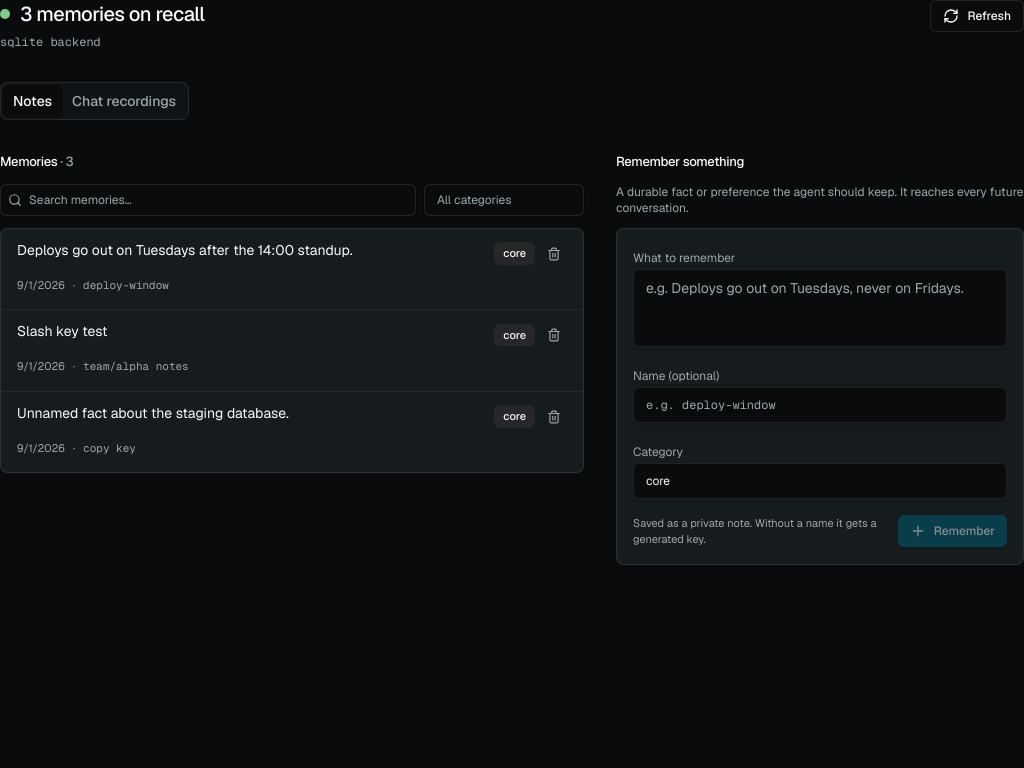
it: MemoryPanel: Remember › stores nothing when the replace is cancelled
Type "new" into the text box labelled "What to remember" at {"x": 820, "y": 308}, box [633,268,1007,346]
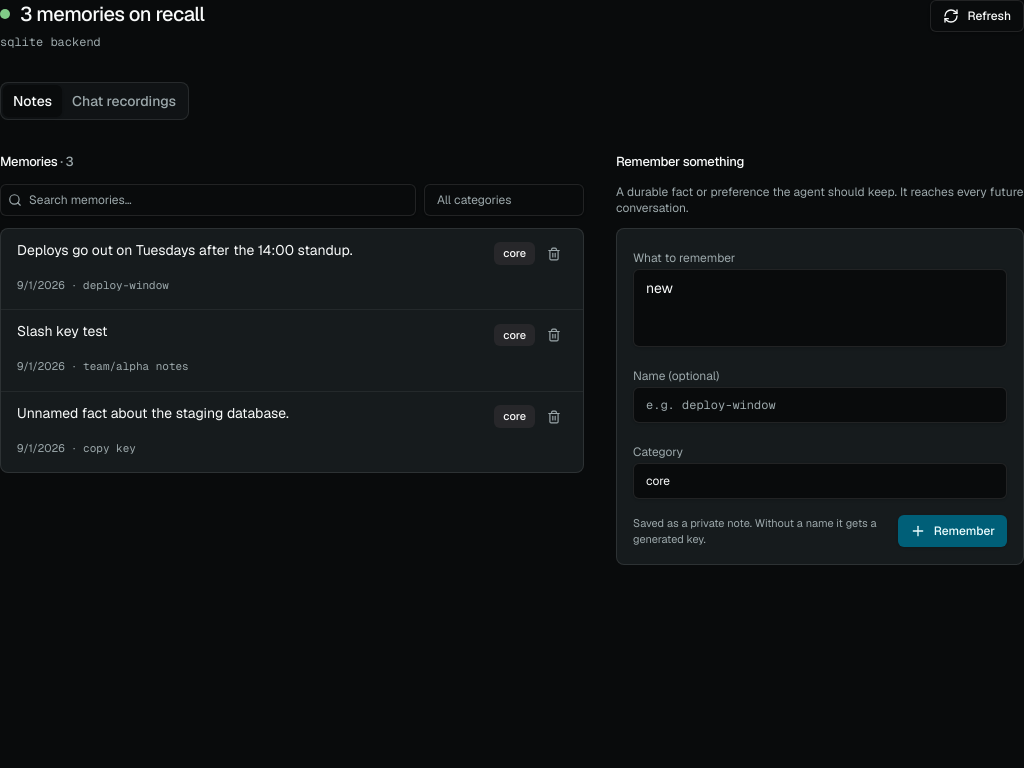
Type "deploy-window" into the field labelled "Name (optional)" at {"x": 820, "y": 404}, box [633,386,1007,422]
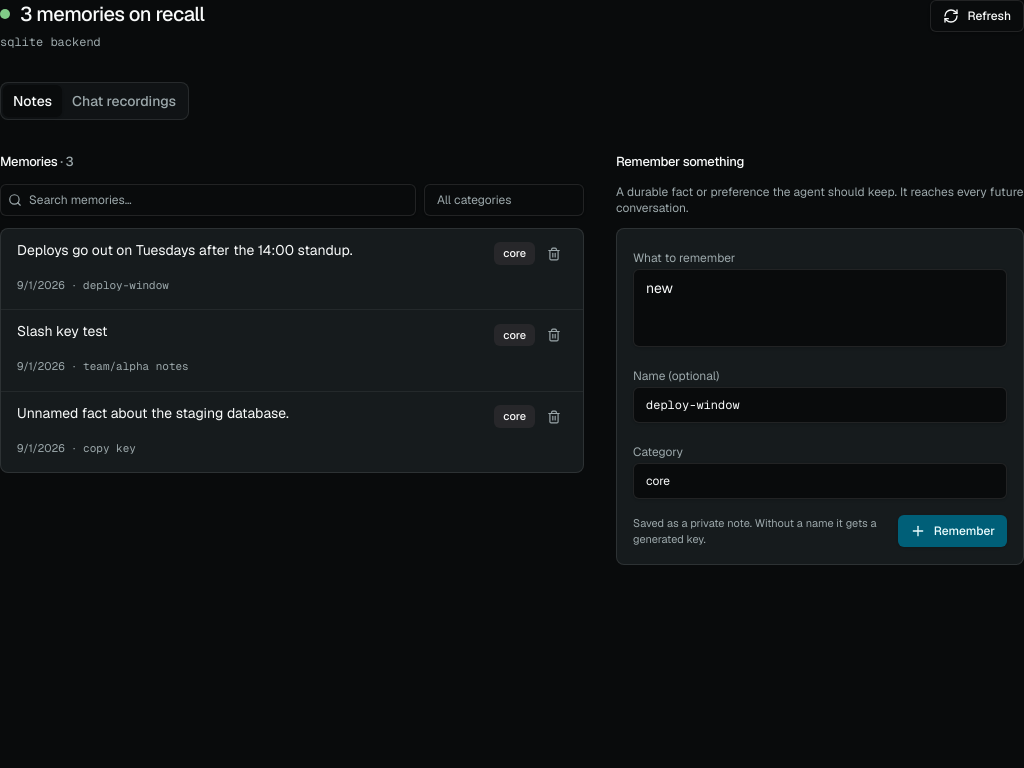
Click the button "Remember" at {"x": 952, "y": 531}, box [898,515,1007,547]
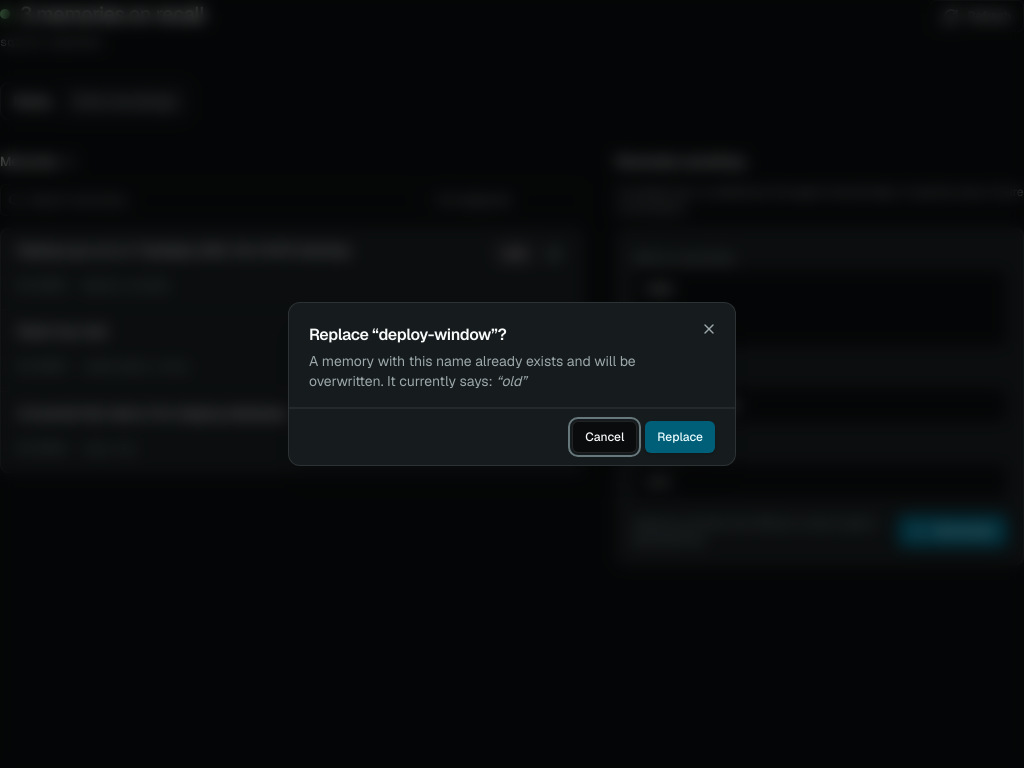
Click the button "Cancel" at {"x": 605, "y": 437}, box [572,421,637,453]
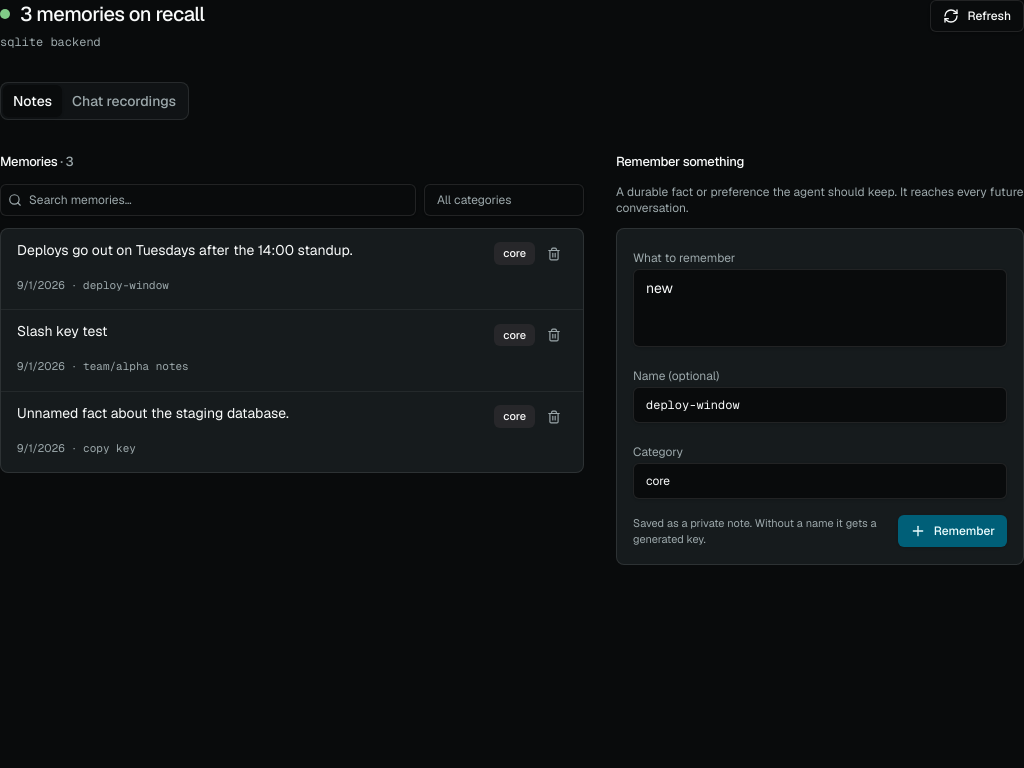
Expected: the dialog is gone
